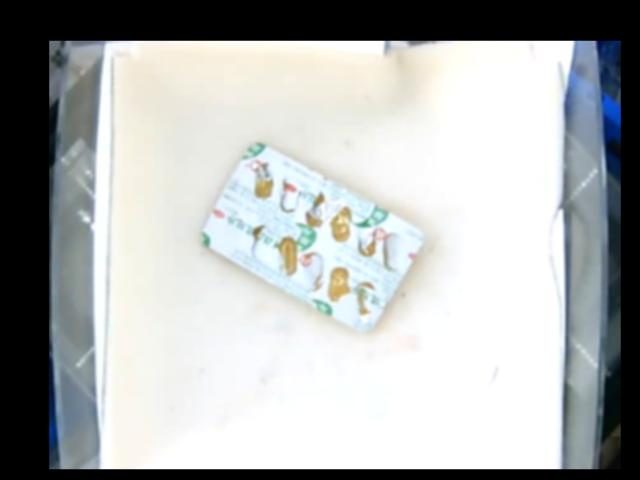Medicine: (196, 141, 423, 330)
